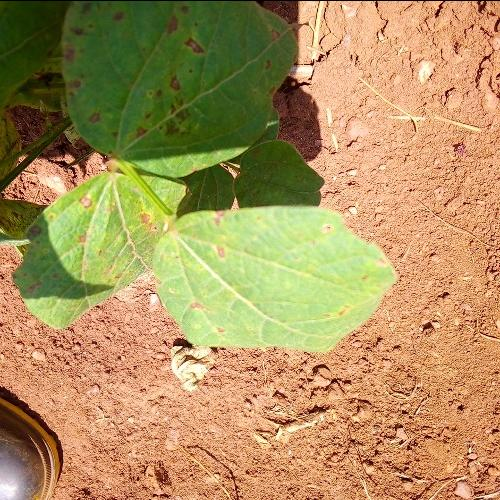hawar: (123, 76, 191, 146), (173, 30, 208, 64)
mozaik: (183, 225, 350, 344)
